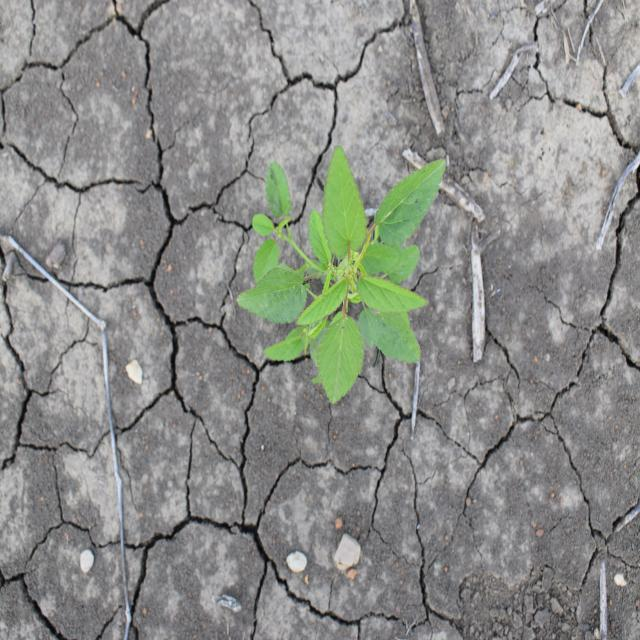PricklySida: (235, 142, 448, 406)
